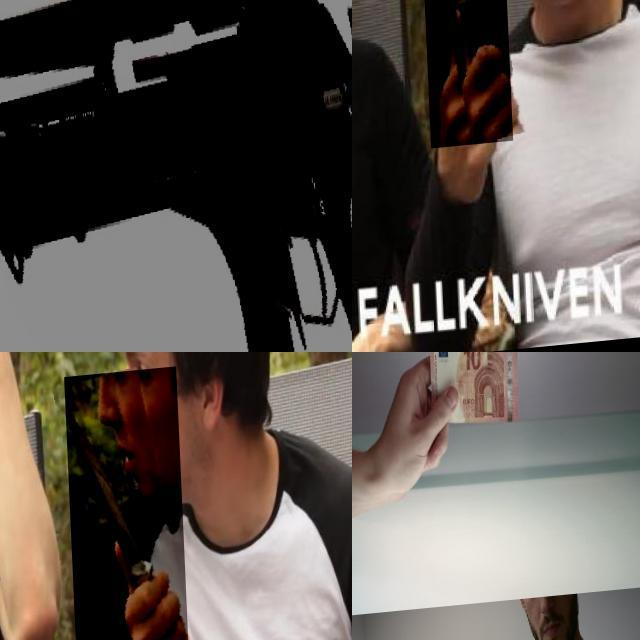-: (62, 374, 186, 640), (414, 0, 508, 182)
gun-knife-thesis - v11 Yolov5 augmented: (0, 0, 352, 352)
